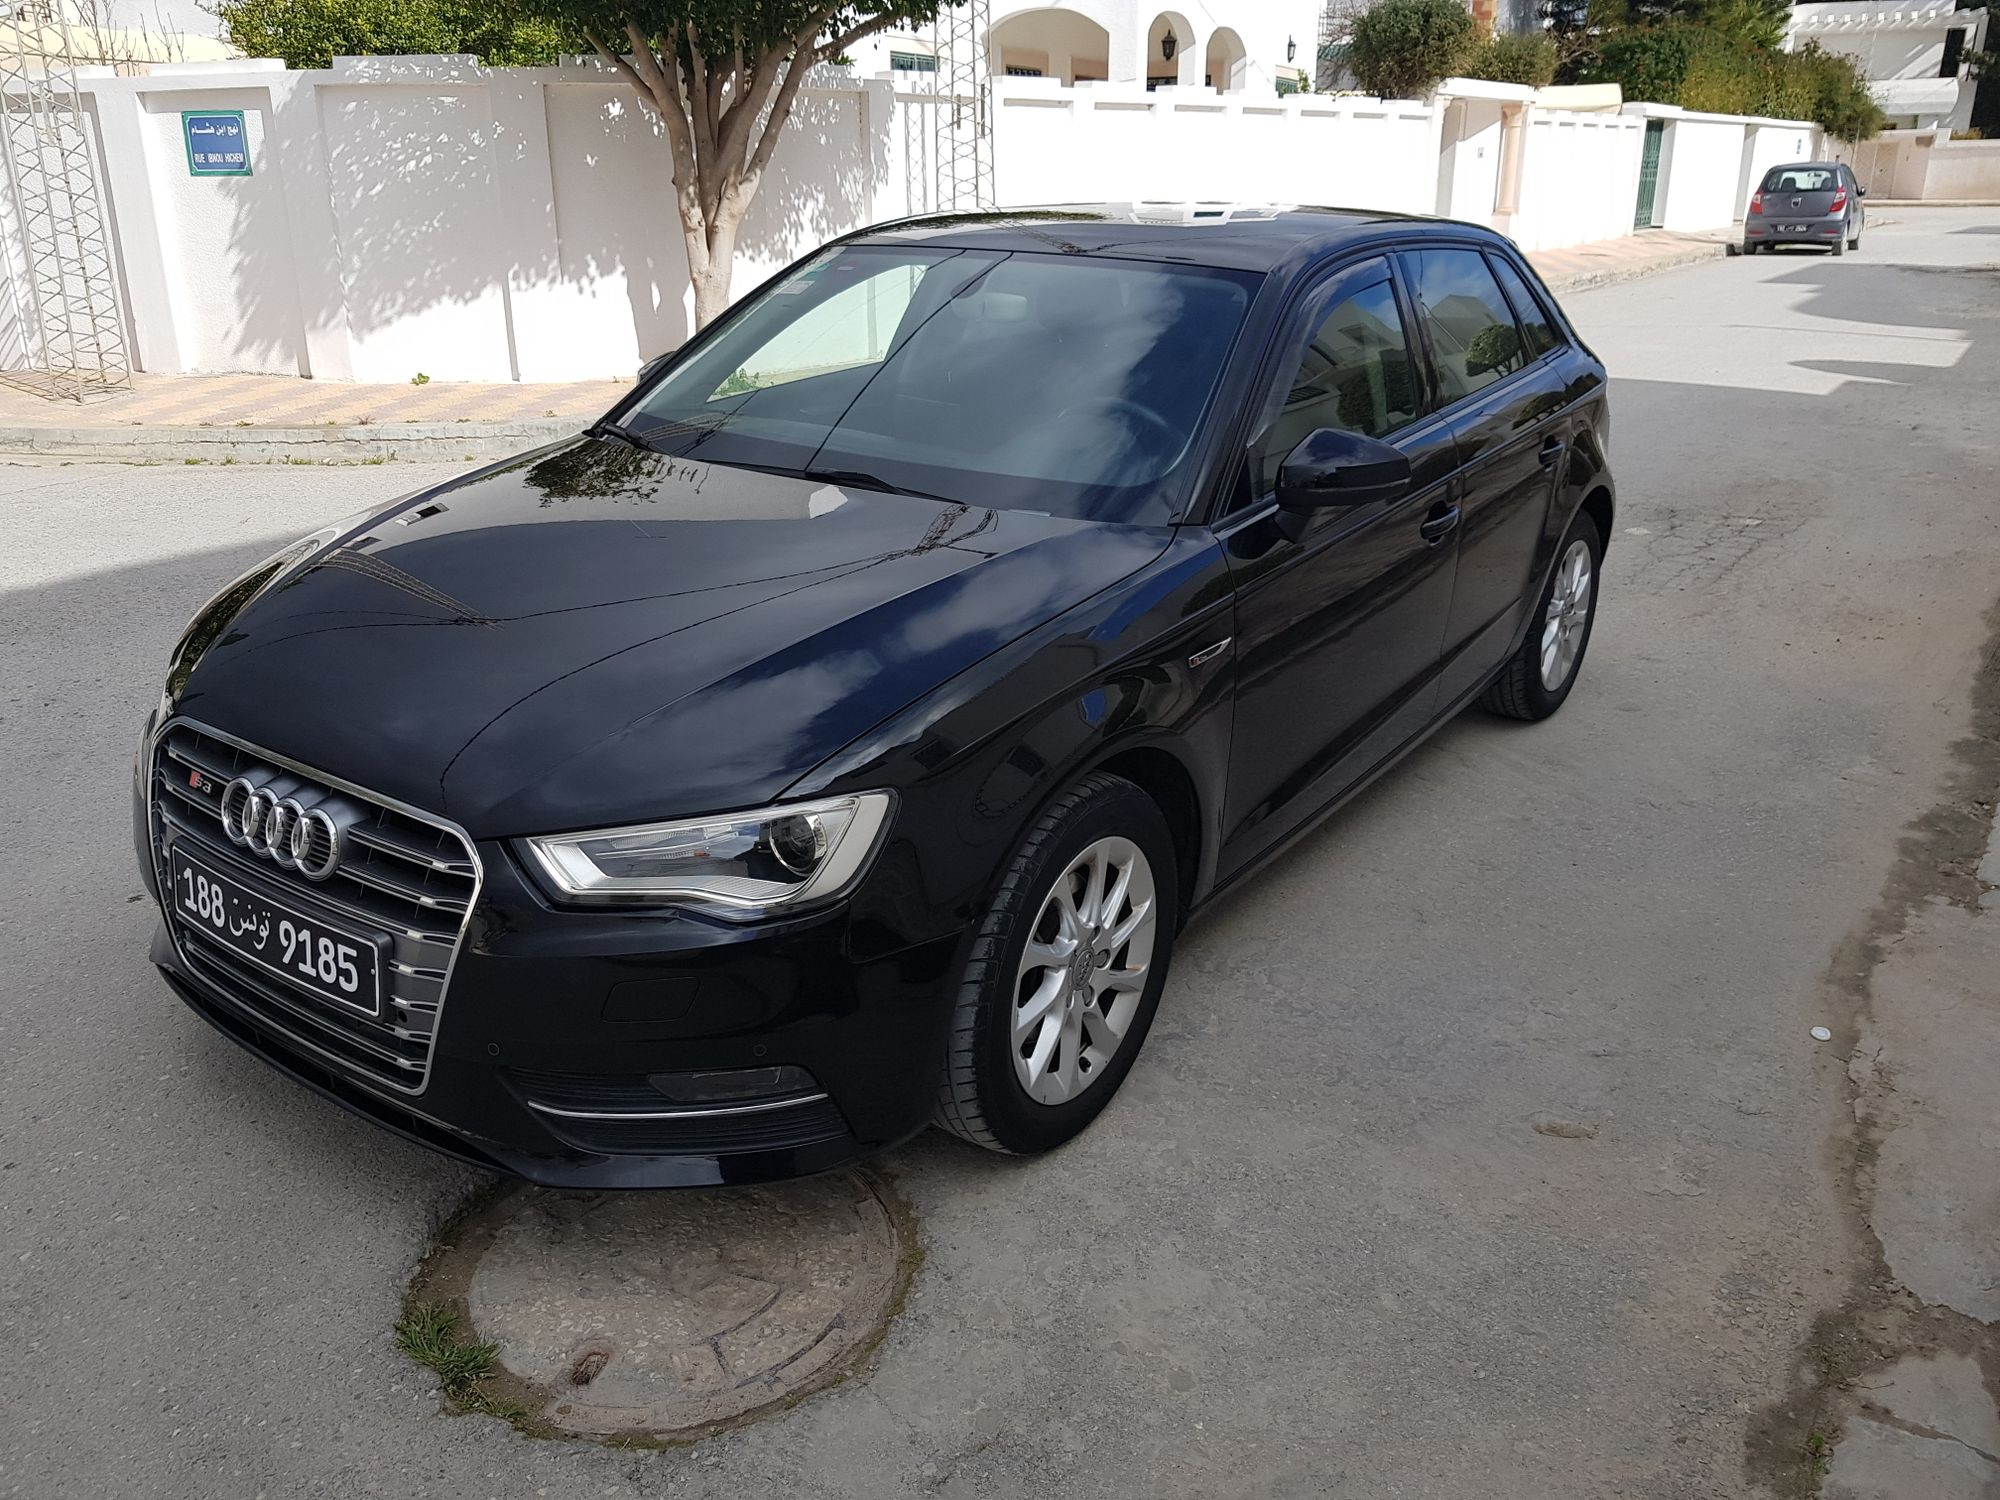LP: (164, 843, 384, 1016)
